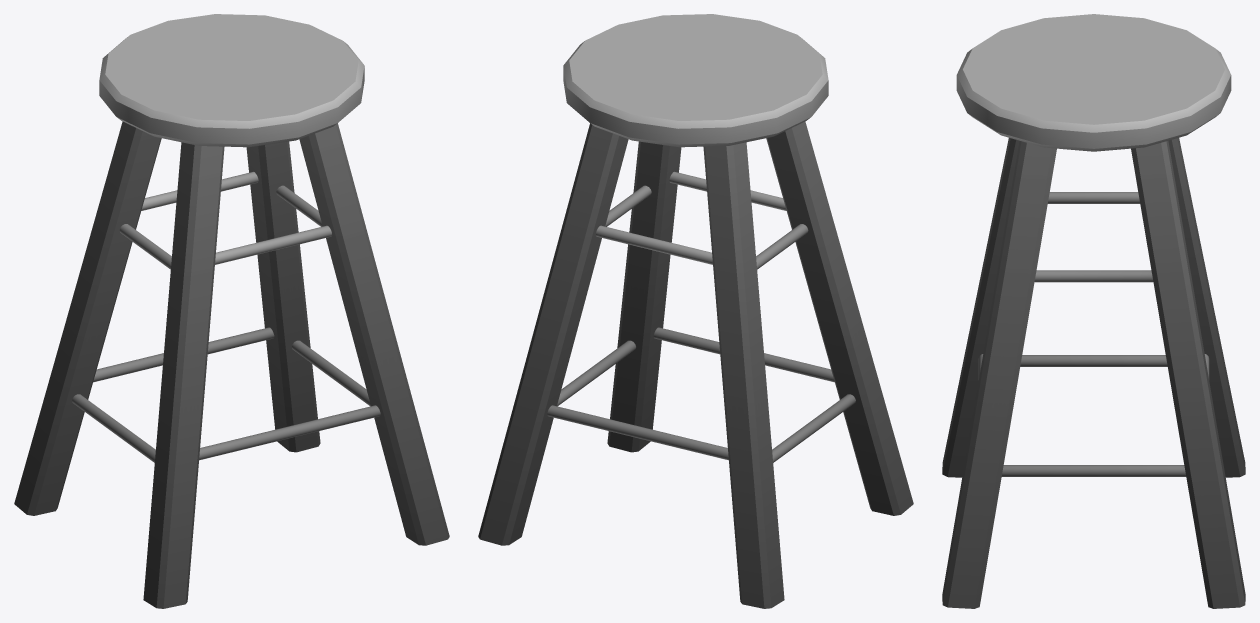
Rendered from barStool.fbx.
3 views of the same model, side by side, from view 1: azimuth 30°, elevation 25°; view 2: azimuth 150°, elevation 25°; view 3: azimuth 270°, elevation 25° (orthographic). The views are drawn at different scales.
Parts seen in each view (by area): view 1: barStool; view 2: barStool; view 3: barStool.
Boxes of the visible parts, <box> form: barStool: <box>14,14,449,608</box>; barStool: <box>478,14,913,608</box>; barStool: <box>942,14,1245,608</box>.
Size of the model in its own units: 0.63 by 0.9331 by 0.5494.
